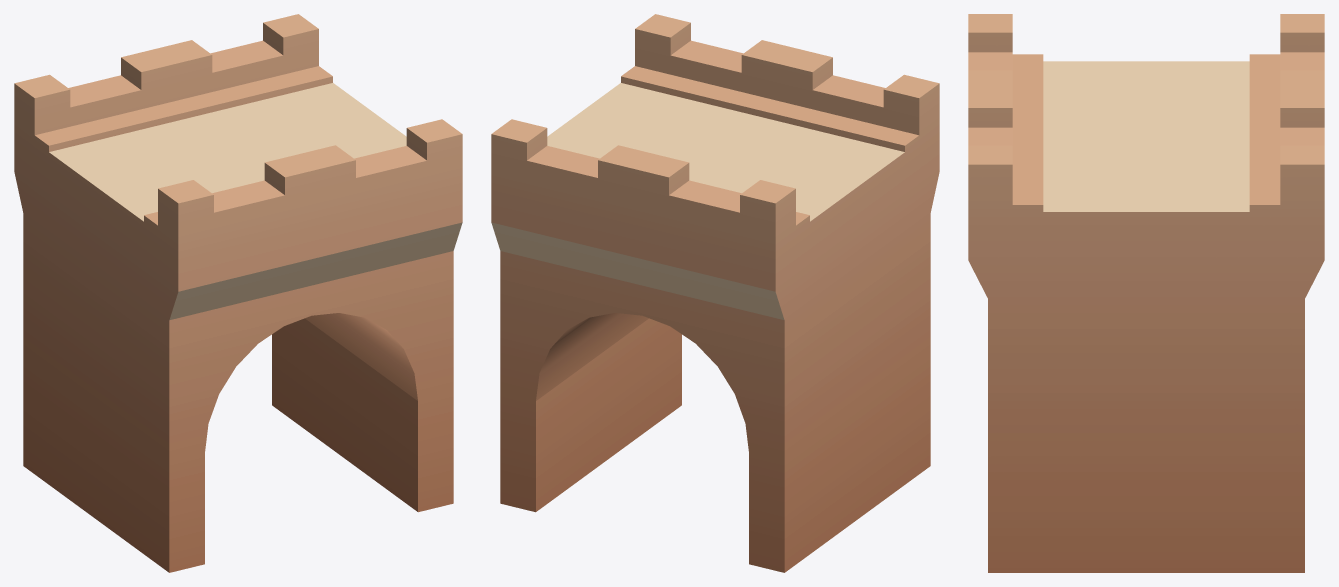
The model's file is bridge-straight.glb.
The picture shows the model from 3 angles, left to right: view 1: azimuth 30°, elevation 25°; view 2: azimuth 150°, elevation 25°; view 3: azimuth 270°, elevation 25°; orthographic projection. The views are drawn at different scales.
Visible parts, largest first — view 1: bridge-straight; view 2: bridge-straight; view 3: bridge-straight.
Part boxes in pixels (x1,y1,x2,y2): bridge-straight: (14,14,462,572); bridge-straight: (491,14,939,572); bridge-straight: (968,14,1324,572).
Bounding box in the file's own units: 0.9301 × 1.18 × 0.9301.
Materials: 1 (1 with a texture image).
